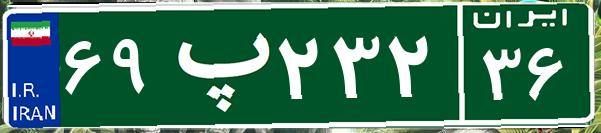2: (385, 28, 445, 110), (273, 28, 330, 110)
3: (330, 28, 385, 110), (475, 38, 525, 113)
6: (57, 26, 110, 107), (525, 38, 570, 115)
9: (110, 28, 158, 105)
پ: (158, 15, 273, 115)
